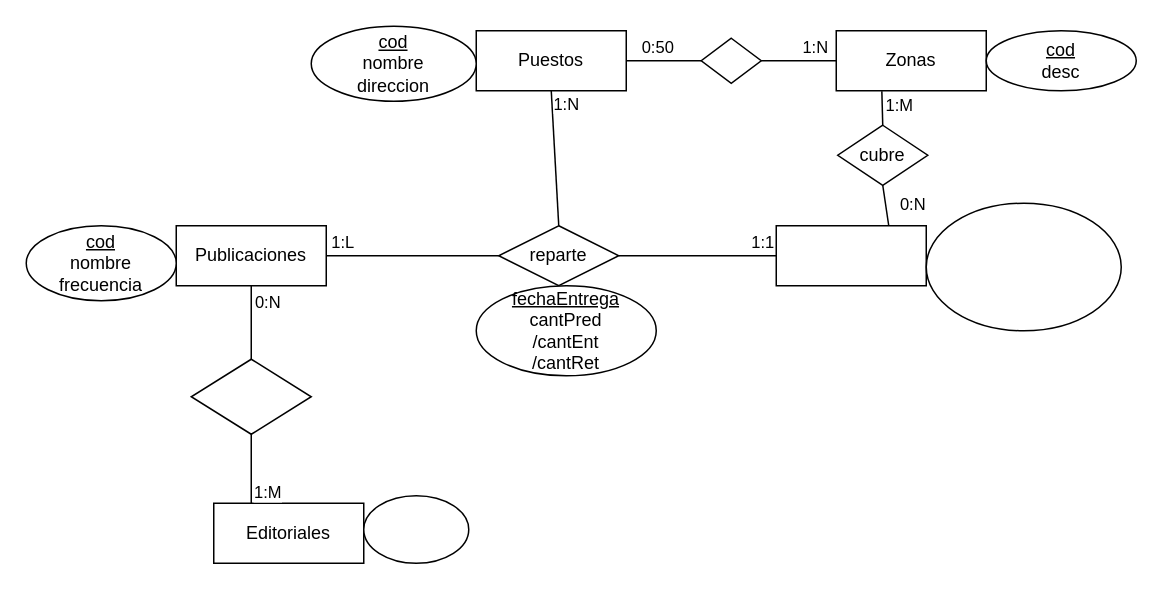
The diagram is 1163 pixels wide and 590 high, and some of its shapes have lost their labels. Here are the shapes that lost their labels. From the top down, the box of each, then its label:
(700, 37, 761, 83): en
(775, 224, 926, 286): Fletes
(925, 202, 1121, 331): cuit razonSocial direccion tel /cantPuestos
(190, 358, 311, 434): pertenece
(362, 494, 469, 563): cod nombre
